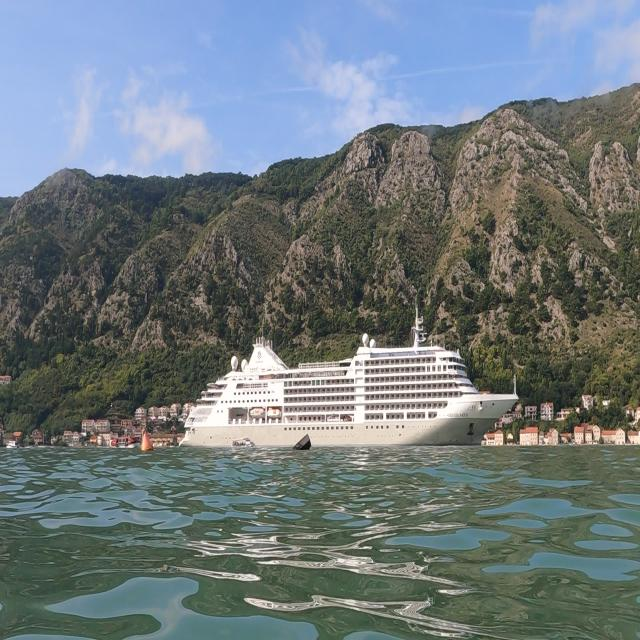boat: (177, 298, 520, 452)
buoy: (287, 432, 315, 458), (136, 429, 158, 459)
